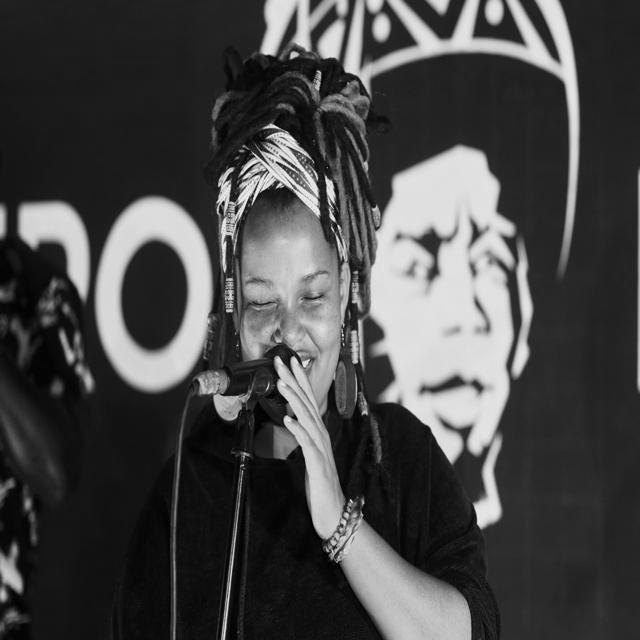Happiness: (228, 195, 348, 418)
